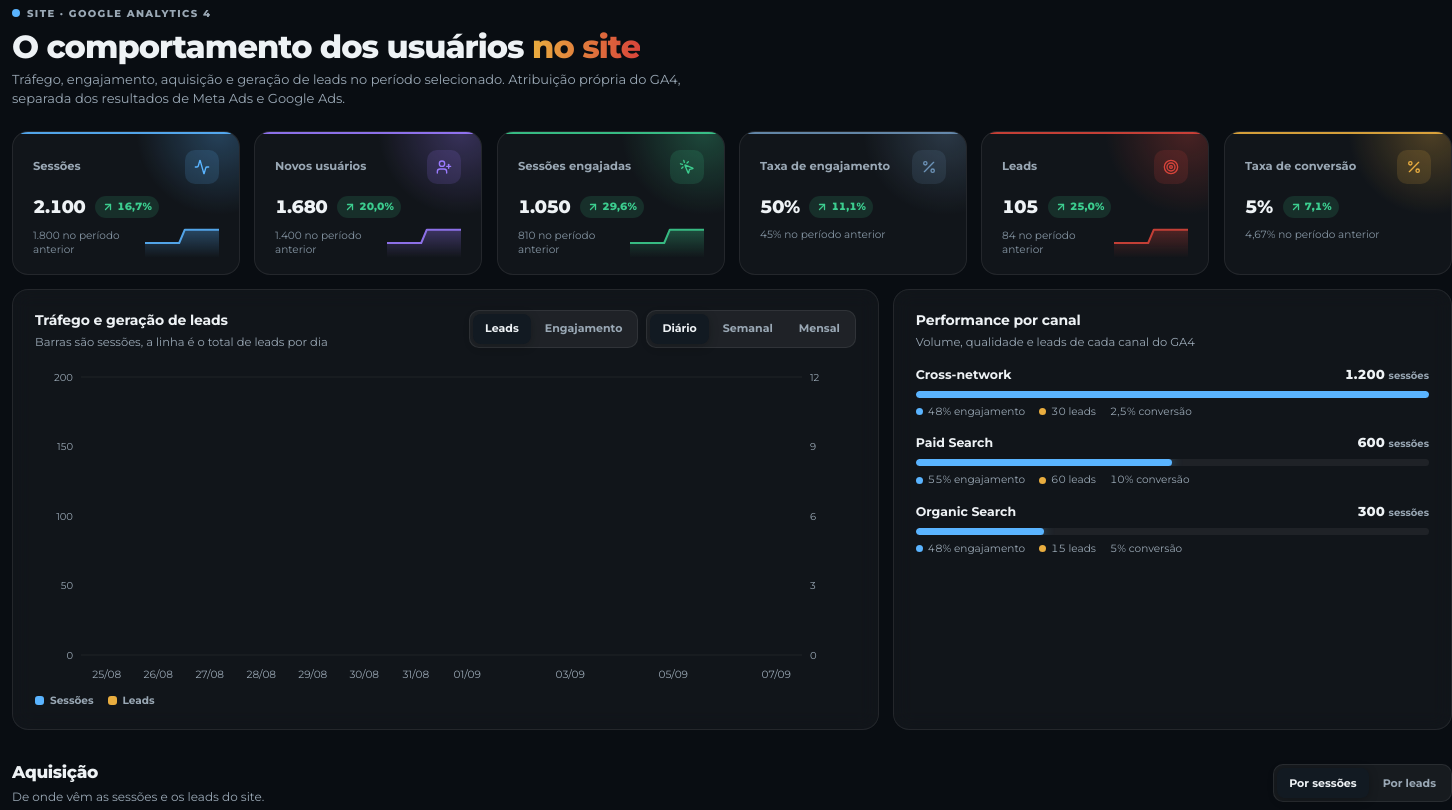
Test: aba Site: gráfico Tráfego e geração de leads › troca a linha de Leads para Taxa de engajamento sem perder as barras de sessões
The image size is (1452, 810).
Expected: the element with test id "site-traffic-chart" is shown, [35, 365, 856, 685]
Step 1. Click the tab "Engajamento" → (584, 329), box [533, 314, 634, 344]
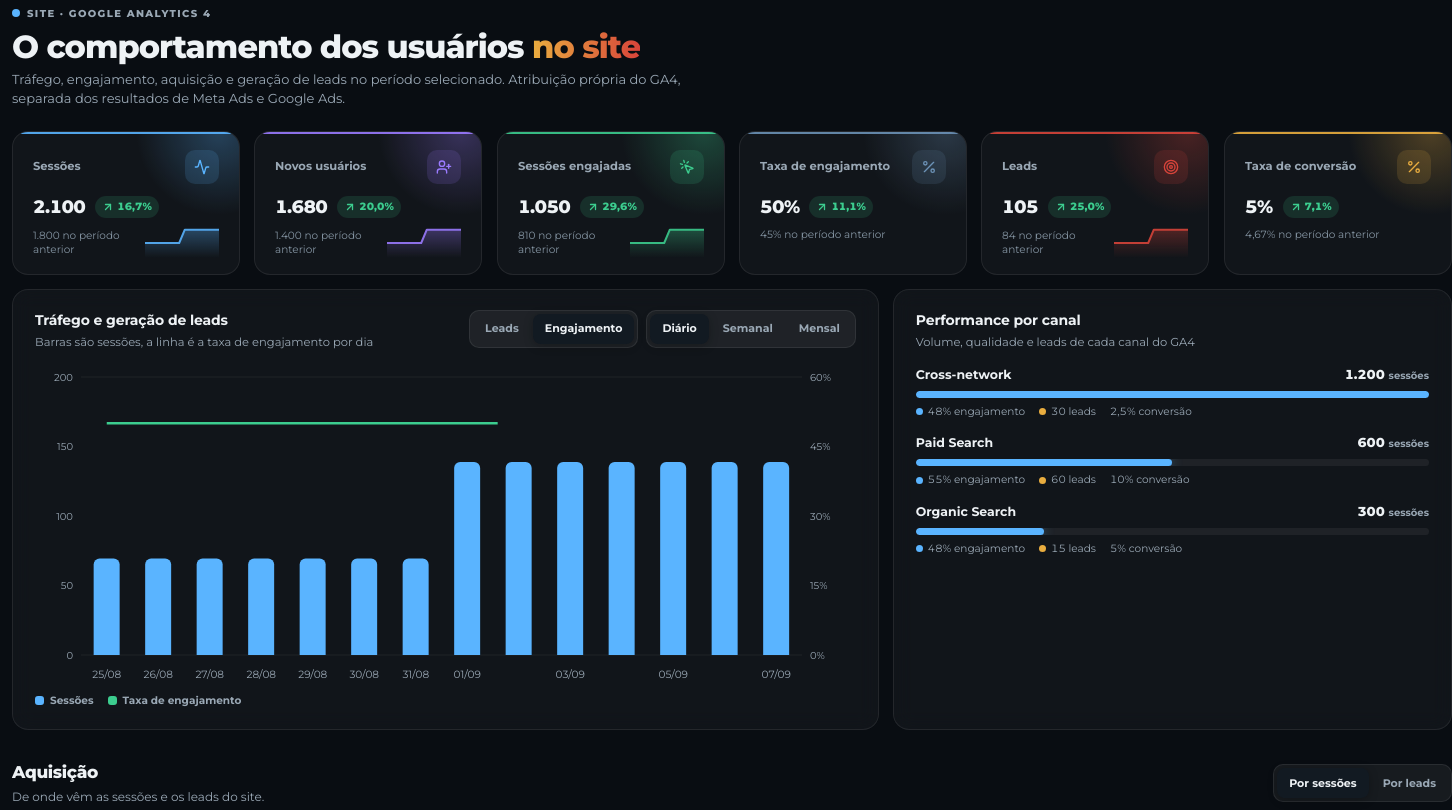
Expected: the element with class "legend" shows "Sessões", [50, 694, 94, 707]
Expected: the element with class "legend" shows "Taxa de engajamento", [123, 694, 241, 707]
